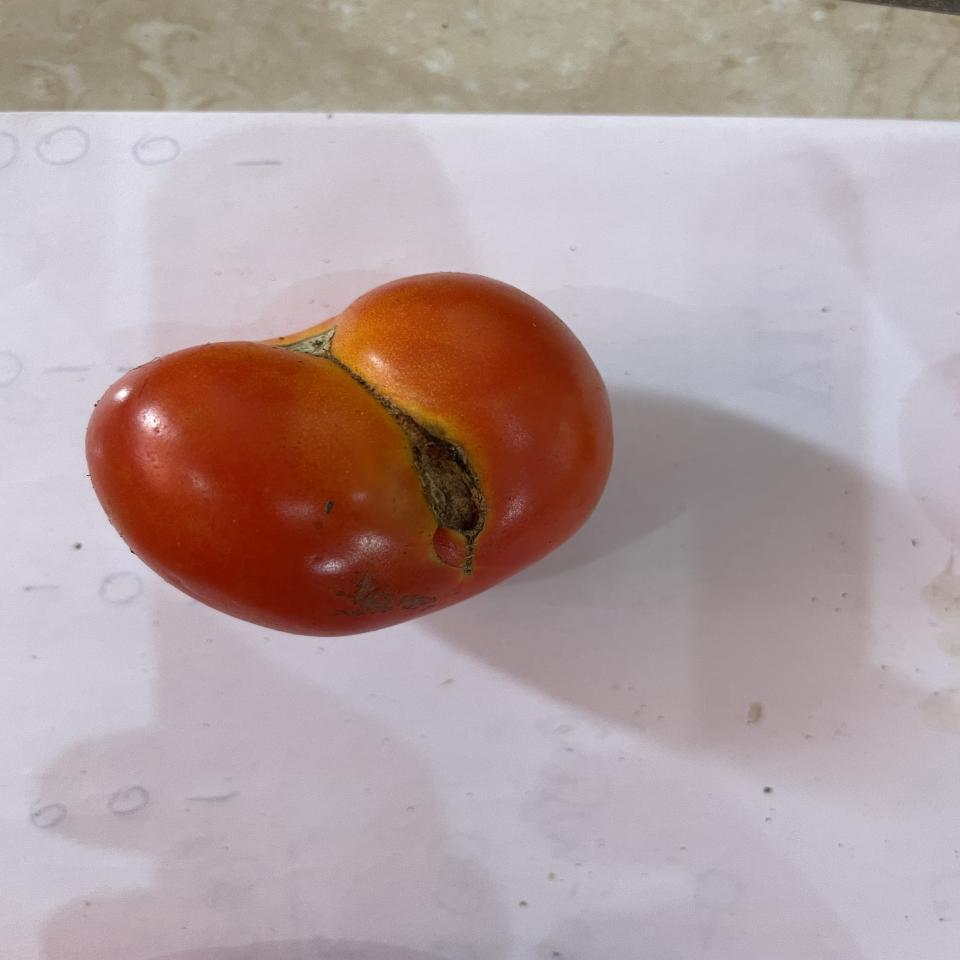Cracking: (391, 401, 499, 574)
